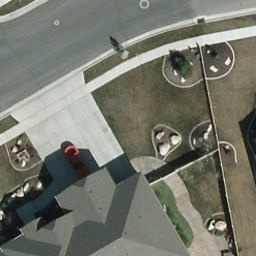car: (62, 145, 91, 178)
